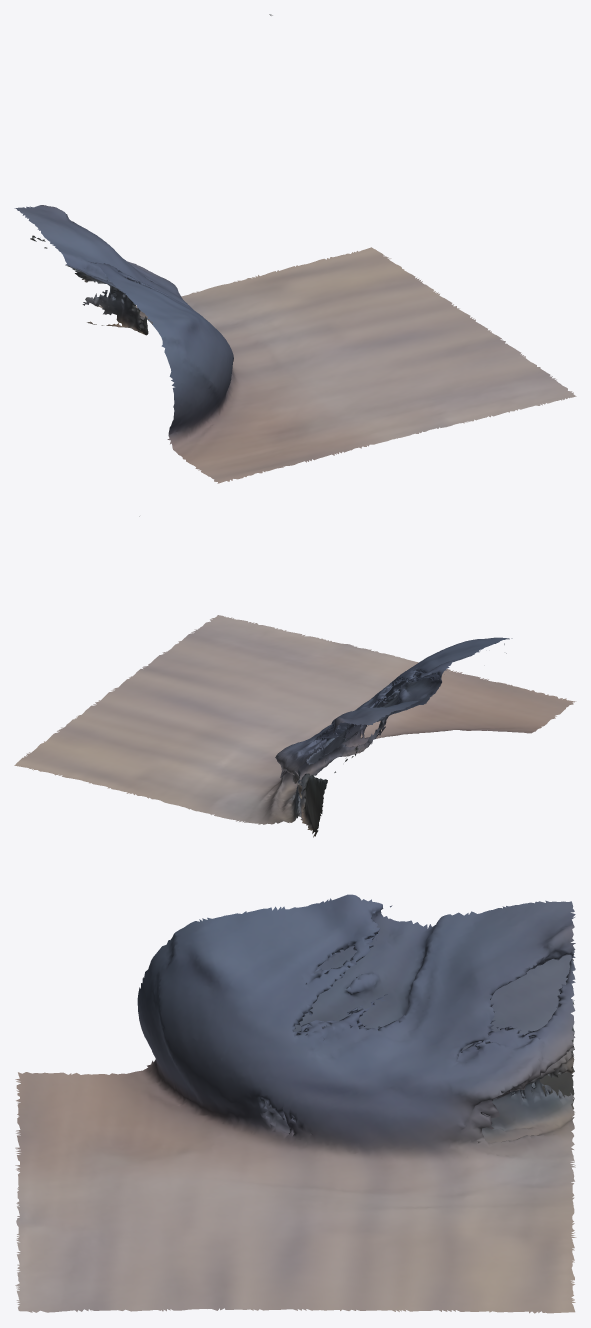
The model's file is apartment-full-89-d7c73e2ac7a9.glb.
3 views of the same model, one above another, from view 1: azimuth 30°, elevation 25°; view 2: azimuth 150°, elevation 25°; view 3: azimuth 270°, elevation 25° (orthographic). The views are drawn at different scales.
Size of the model in its own units: 1.06 by 0.816 by 1.05.
